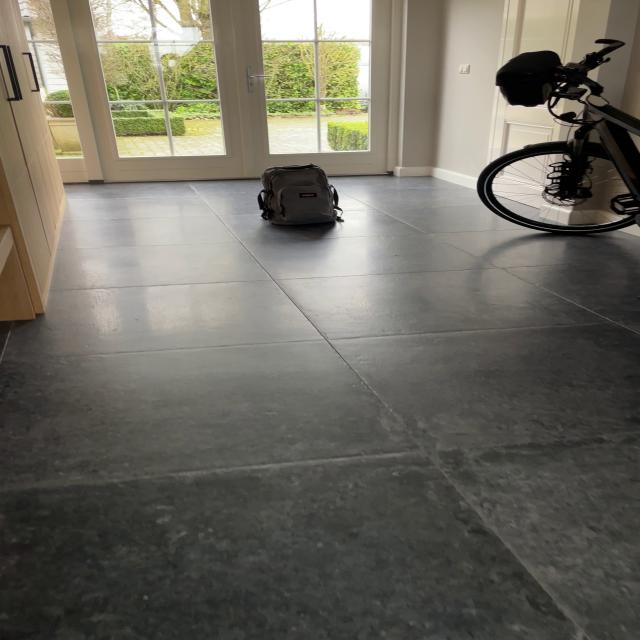backpack: (250, 161, 342, 229)
